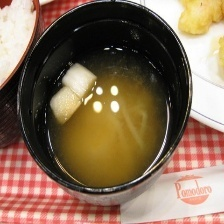dal: (35, 40, 178, 196)
